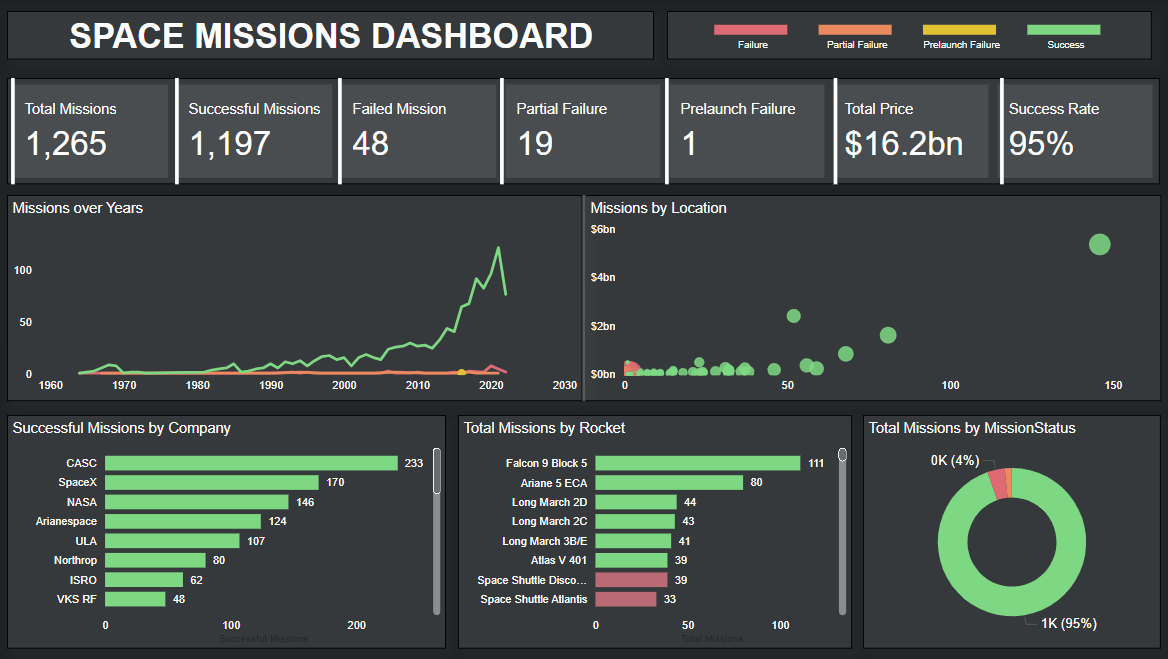

The dashboard page shown, as its layout file describes it:
{"tool":"powerbi","page":{"name":"Page 1","canvas":[1280,720],"ordinal":0},"visuals":[{"type":"lineChart","title":"Missions over Years","fields":{"Y":["Measures Table (2).Total Missions"],"Category":["Date Table.Year"],"Series":["Space Missions.MissionStatus"]},"box":[10.3,212.9,628.4,224.5],"z":1},{"type":"barChart","fields":{"Category":["Space Missions.Company"],"Y":["Measures Table (2).Successful Misdsions"]},"box":[9.8,452.9,479,255.3],"z":2},{"type":"barChart","fields":{"Y":["Measures Table (2).Total Missions"],"Category":["Space Missions.Rocket"]},"box":[501.6,452.9,429.7,255.5],"z":4},{"type":"scatterChart","title":"Missions by Location","fields":{"X":["Measures Table (2).Total Missions"],"Category":["Space Missions.Location"],"Y":["Measures Table (2).Total Price"],"Series":["Space Missions.MissionStatus"],"Size":["Measures Table (2).Successful Misdsions"]},"box":[640.5,212.8,628.5,224.8],"z":5},{"type":"donutChart","fields":{"Y":["Measures Table (2).Total Missions"],"Category":["Space Missions.MissionStatus"]},"box":[943.9,452.9,325.2,255.3],"z":6},{"type":"cardVisual","fields":{"Data":["Measures Table (2).Total Missions","Measures Table (2).Successful Misdsions","Measures Table (2).Failed Mission","Measures Table (2).Partial Failure","Measures Table (2).Prelaunch Failure","Measures Table (2).Total Price","Measures Table (2).Success Rate"]},"box":[10.3,85.2,1258.1,116.1],"z":7},{"type":"actionButton","title":"SPACE MISSIONS DASHBOARD","box":[17.1,12.8,706.4,54.2],"z":8},{"type":"shape","box":[723.9,85.2,12.9,116.1],"z":9},{"type":"shape","box":[1089,85.2,12.9,116.1],"z":10},{"type":"shape","box":[907.1,85.2,14.2,116.1],"z":11},{"type":"shape","box":[543.2,85.2,12.9,116.1],"z":12},{"type":"shape","box":[366.5,85.2,12.9,116.1],"z":13},{"type":"shape","box":[188.4,85.2,12.9,116.1],"z":14},{"type":"shape","box":[10.3,85.2,12.9,116.1],"z":15},{"type":"shape","box":[634.8,212.9,9,224.5],"z":18},{"type":"columnChart","fields":{"Y":["Measures Table (2).Legend"],"Category":["Space Missions.MissionStatus"]},"box":[739.2,14.3,529.4,52.8],"z":19}]}

Visuals, with their boxes in screenshot pixels (x1, y1, x2, y2), scaled from the page's 1280x720 canvas onto the 1168x659 screenshot:
"Missions over Years" lineChart: box=[9, 195, 583, 400]
barChart - Space Missions.Company x Measures Table (2).Successful Misdsions: box=[9, 415, 446, 648]
barChart - Measures Table (2).Total Missions x Space Missions.Rocket: box=[458, 415, 850, 648]
"Missions by Location" scatterChart: box=[584, 195, 1158, 401]
donutChart - Measures Table (2).Total Missions x Space Missions.MissionStatus: box=[861, 415, 1158, 648]
cardVisual - Measures Table (2).Total Missions x Measures Table (2).Successful Misdsions: box=[9, 78, 1157, 184]
"SPACE MISSIONS DASHBOARD" actionButton: box=[16, 12, 660, 61]
shape: box=[661, 78, 672, 184]
shape: box=[994, 78, 1005, 184]
shape: box=[828, 78, 841, 184]
shape: box=[496, 78, 507, 184]
shape: box=[334, 78, 346, 184]
shape: box=[172, 78, 184, 184]
shape: box=[9, 78, 21, 184]
shape: box=[579, 195, 587, 400]
columnChart - Measures Table (2).Legend x Space Missions.MissionStatus: box=[675, 13, 1158, 61]
